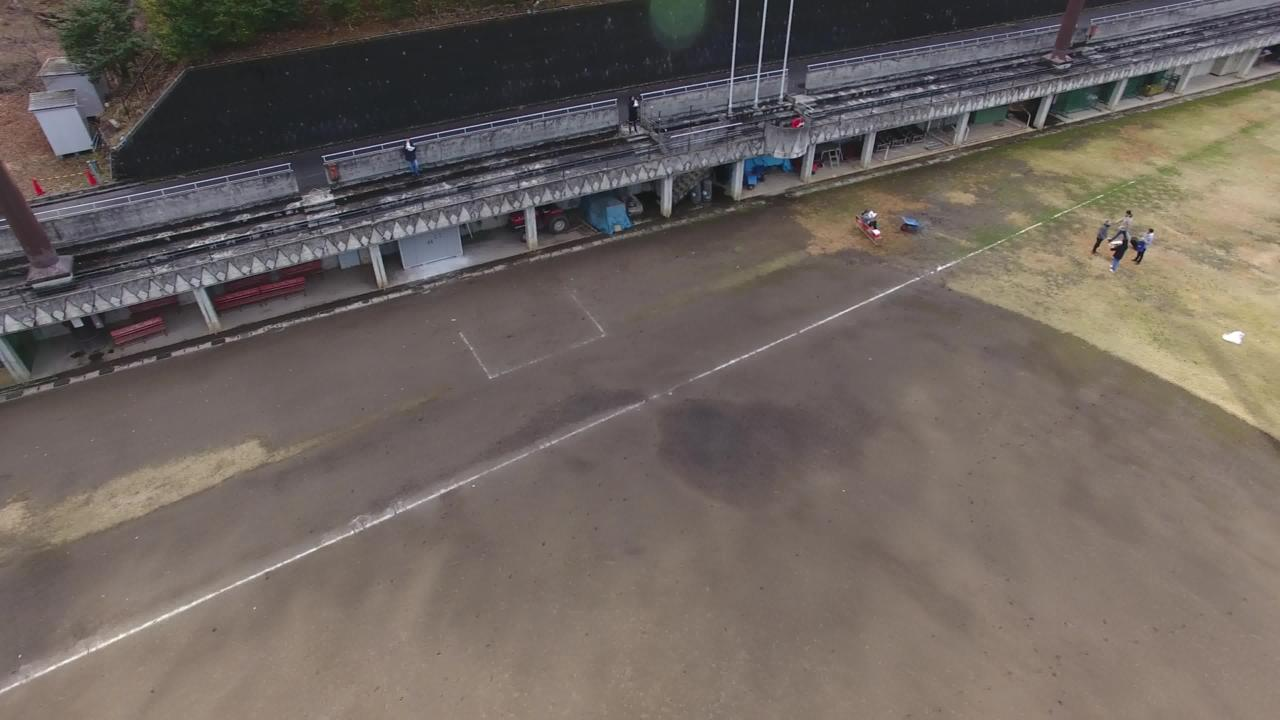person: (623, 89, 651, 153), (393, 135, 433, 175), (1076, 208, 1110, 255), (1105, 232, 1133, 283), (852, 202, 888, 236), (1135, 223, 1159, 270), (1109, 195, 1130, 241)
